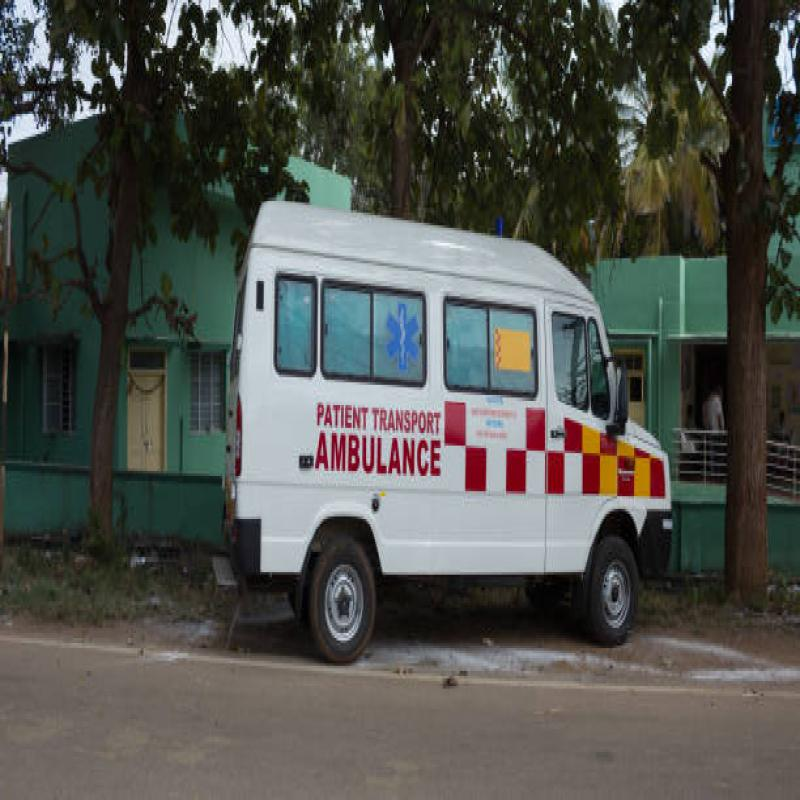ambulance: (212, 135, 680, 677)
